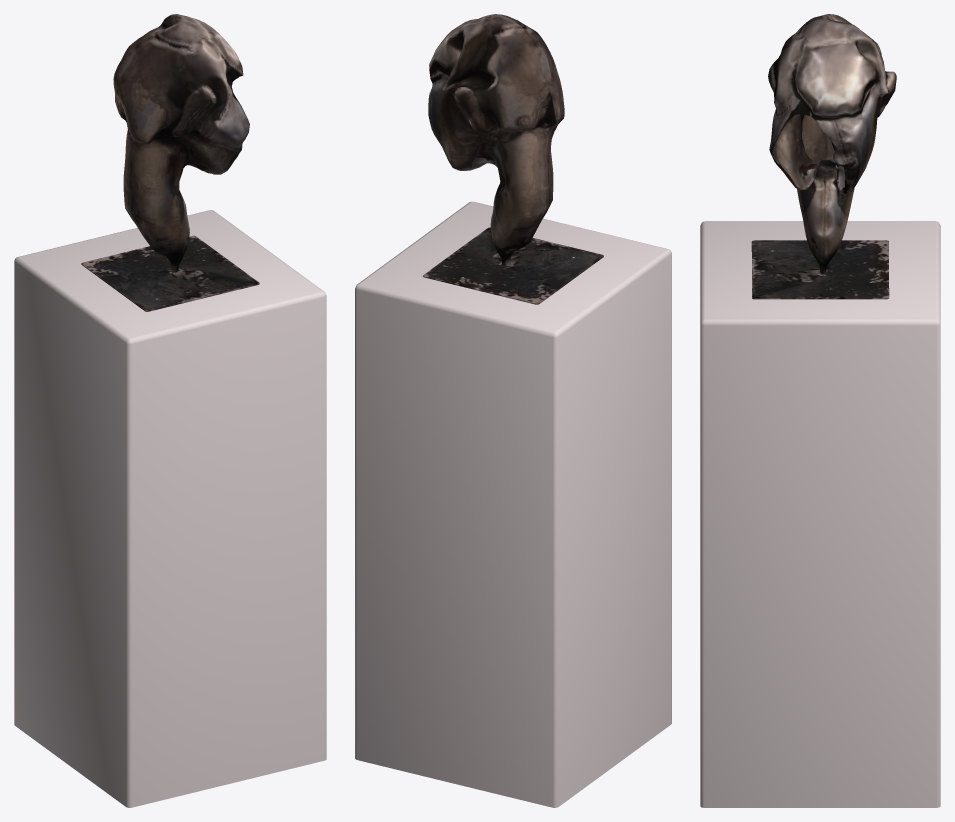
Rendered from 4-melnikovplastikatrio-2.fbx.
3 views of the same model, side by side, from view 1: azimuth 30°, elevation 25°; view 2: azimuth 150°, elevation 25°; view 3: azimuth 270°, elevation 25° (orthographic). The views are drawn at different scales.
Visible parts, largest first — view 1: 4-melnikovplastikatrio-2; view 2: 4-melnikovplastikatrio-2; view 3: 4-melnikovplastikatrio-2.
Part boxes in pixels (x1,y1,x2,y2): 4-melnikovplastikatrio-2: [14, 14, 326, 807]; 4-melnikovplastikatrio-2: [355, 14, 671, 807]; 4-melnikovplastikatrio-2: [700, 14, 940, 807].
Bounding box in the file's own units: 53.74 × 183 × 53.74.
